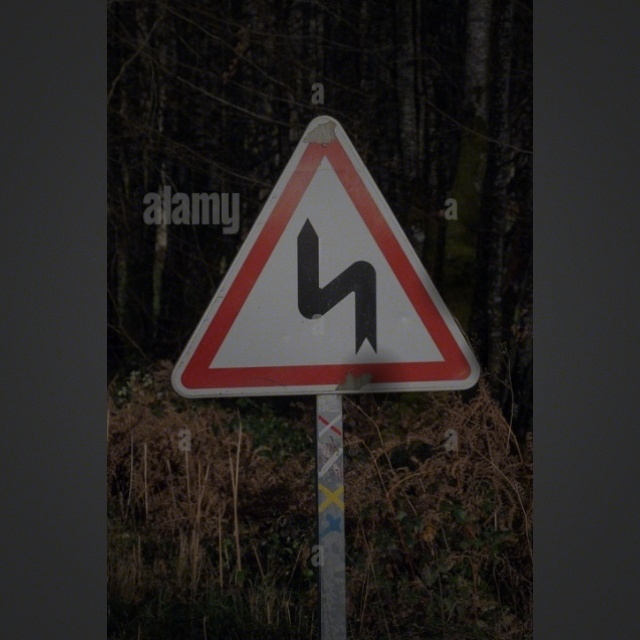Left_Reverse_Bend: (172, 118, 488, 401)
